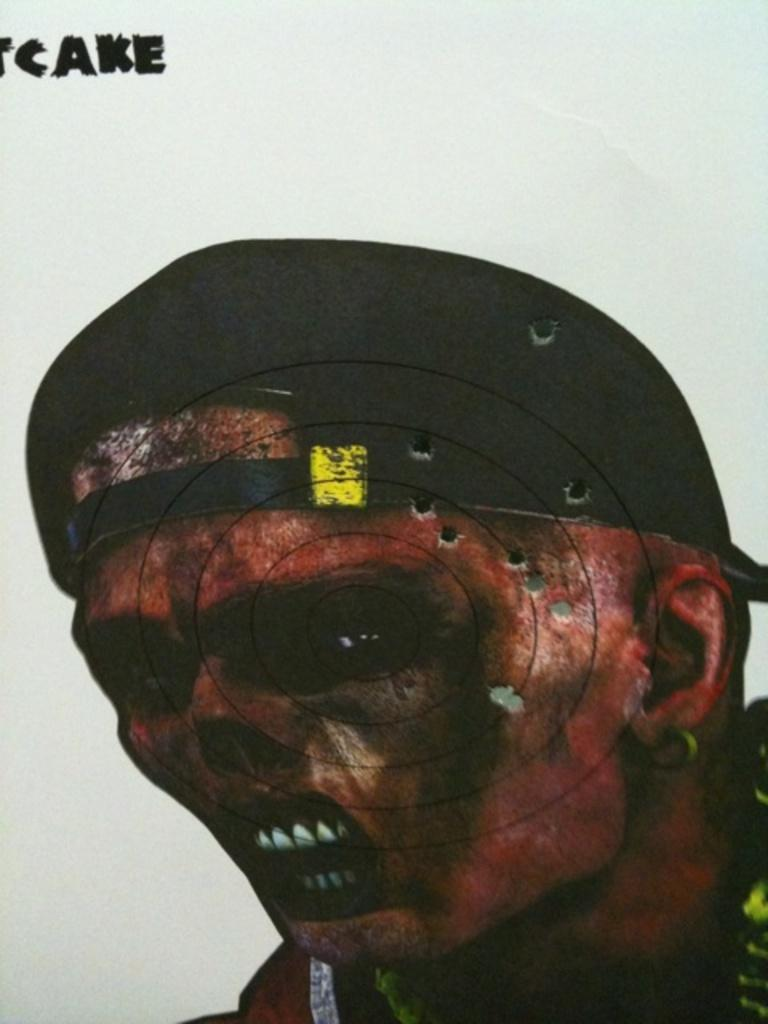Hat: (16, 236, 766, 604)
